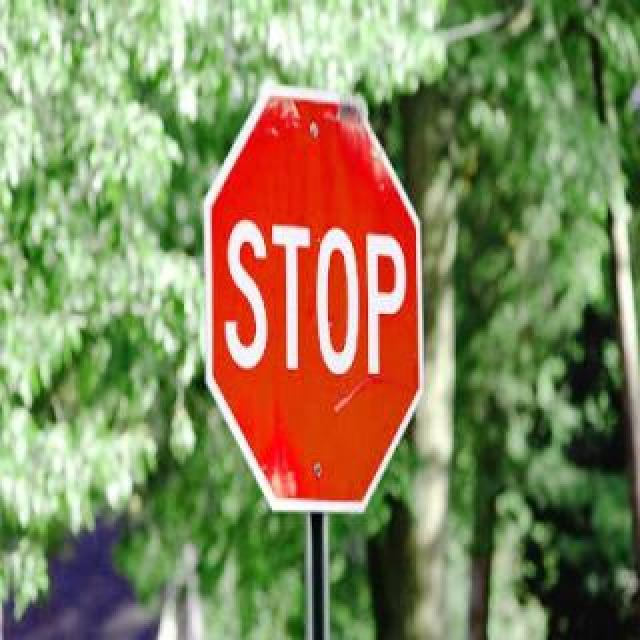stop: (202, 82, 422, 518)
